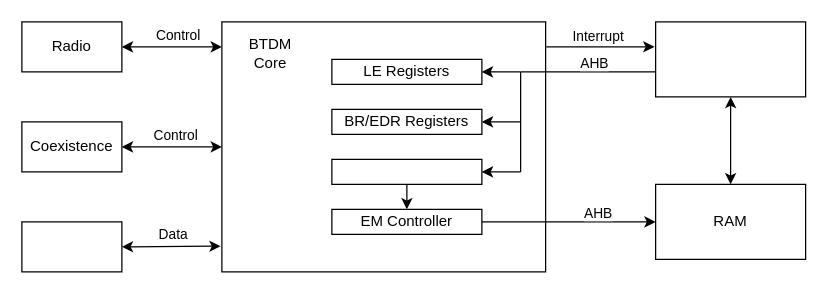
This 828x294 diagram has some shape labels left out. The shapes that lost their labels are listed below. From the top down, each one's centre as x and y in pixels, then its label:
At point 730,59: "Core".
At point 406,171: "EM Registers".
At point 71,246: "Modem".
